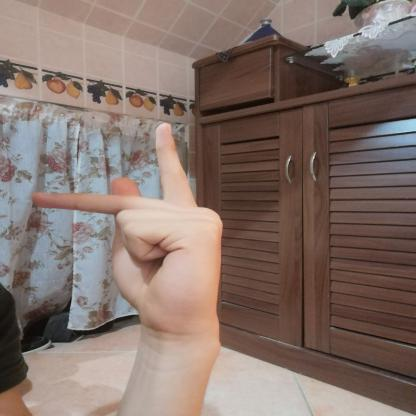DHAA: (17, 113, 236, 338)
